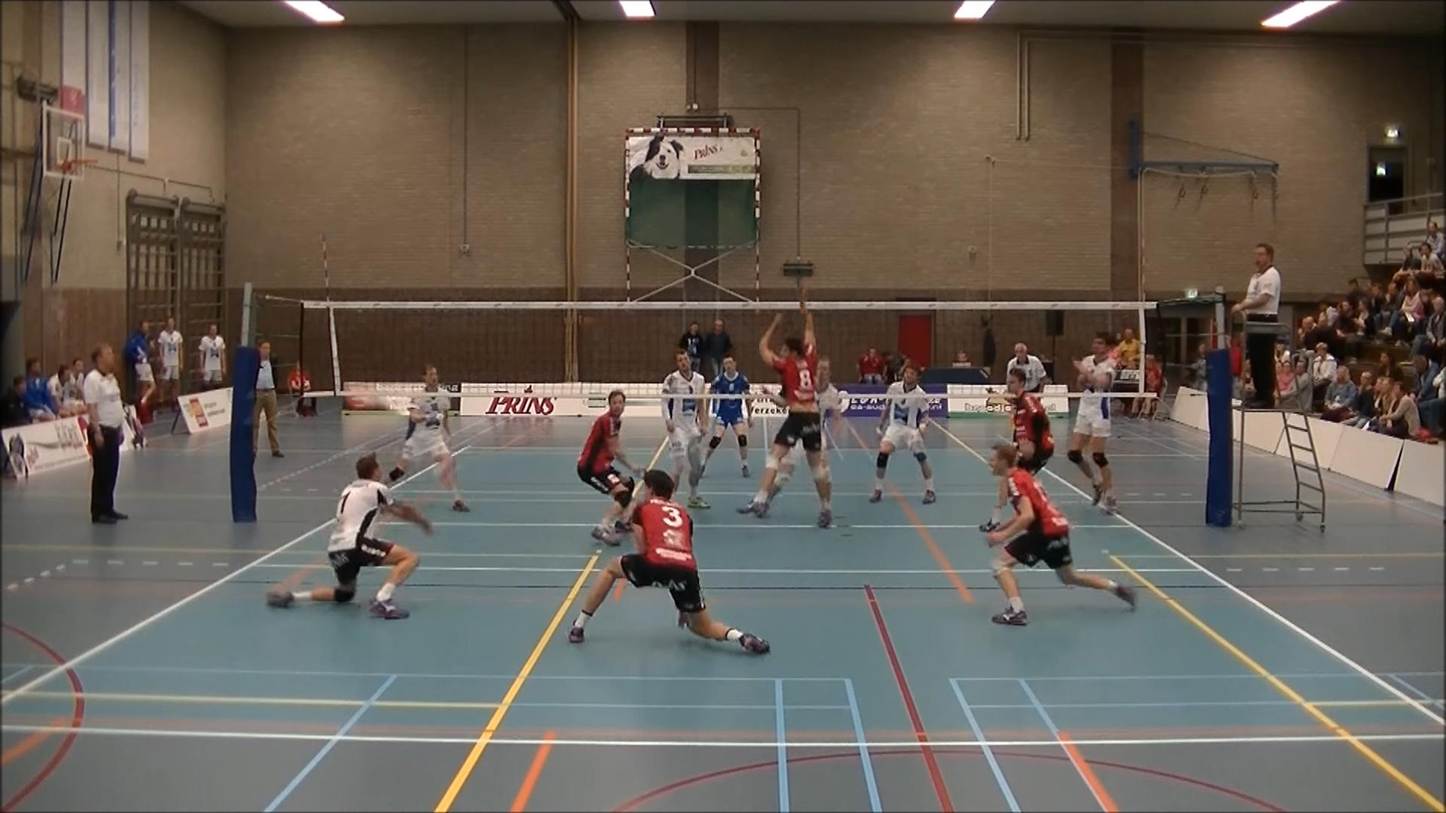Block: (742, 299, 839, 527)
Dig: (254, 446, 440, 618)
Player: (569, 470, 769, 653), (987, 443, 1135, 626), (389, 364, 469, 511), (577, 389, 641, 545), (869, 364, 935, 504), (1067, 333, 1117, 513), (661, 349, 709, 508), (703, 356, 752, 477), (1006, 367, 1053, 476), (816, 358, 843, 453)
